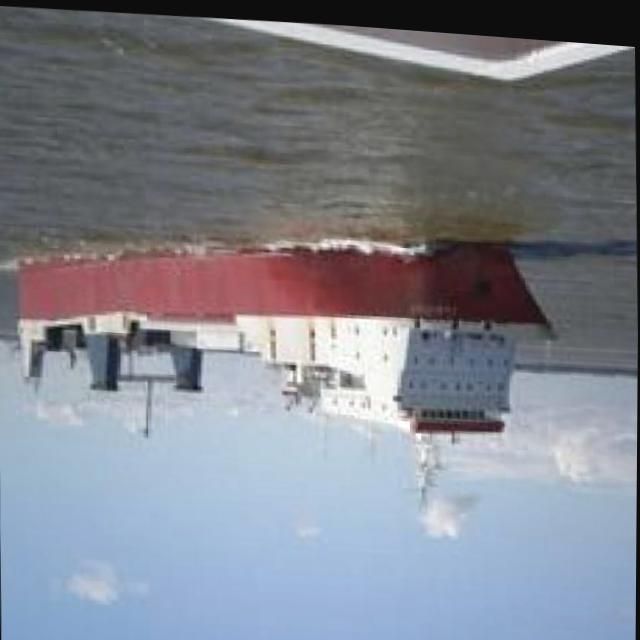ship2: (16, 233, 558, 505)
